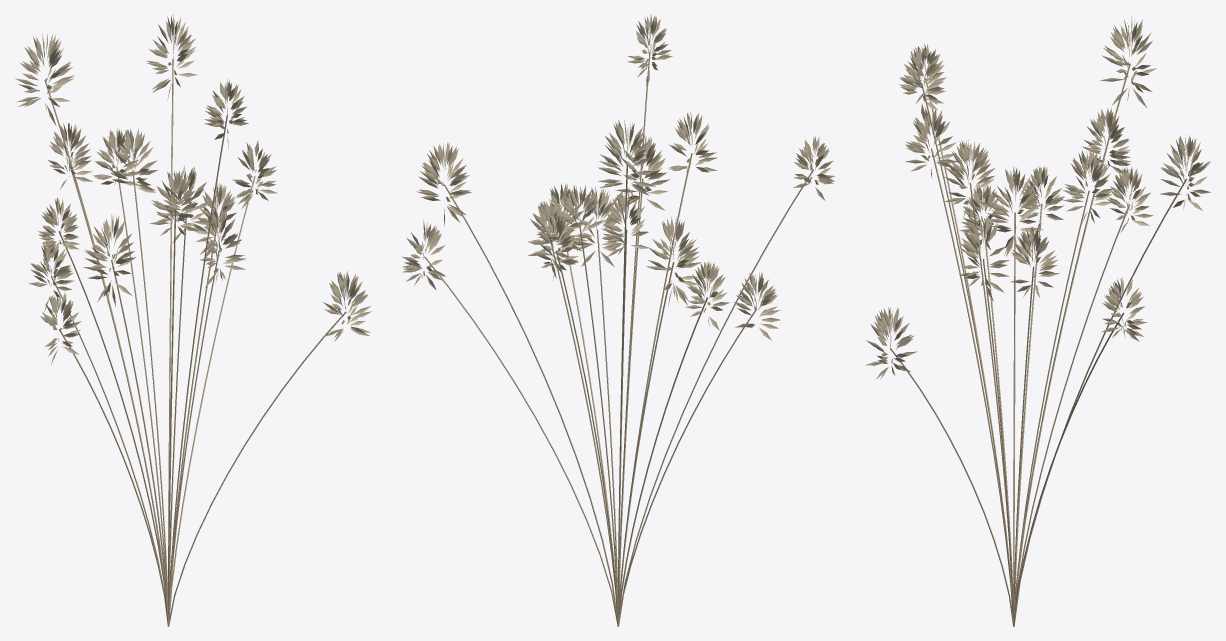
File: bunny-1.glb
The picture shows the model from 3 angles, left to right: view 1: azimuth 30°, elevation 25°; view 2: azimuth 150°, elevation 25°; view 3: azimuth 270°, elevation 25°; orthographic projection. The views are drawn at different scales.
Parts seen in each view (by area): view 1: bunny-leaves, bunny-stems; view 2: bunny-leaves, bunny-stems; view 3: bunny-leaves, bunny-stems.
Part boxes in pixels (bbox=[...]): bunny-leaves: bbox=[15, 14, 371, 364]; bunny-stems: bbox=[44, 59, 346, 626]; bunny-leaves: bbox=[401, 14, 835, 340]; bunny-stems: bbox=[424, 51, 813, 626]; bunny-leaves: bbox=[865, 16, 1210, 379]; bunny-stems: bbox=[890, 63, 1186, 626].
Size of the model in its own units: 0.4208 by 0.6967 by 0.3736.
